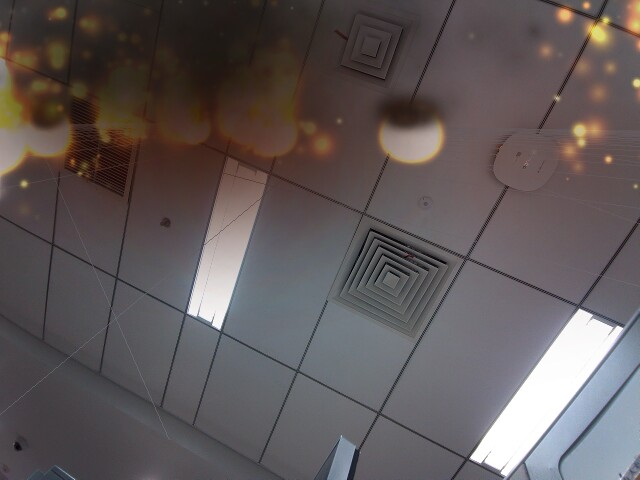fire: (377, 107, 445, 168), (240, 108, 301, 159), (27, 110, 75, 158), (0, 97, 29, 176), (162, 104, 212, 146)
